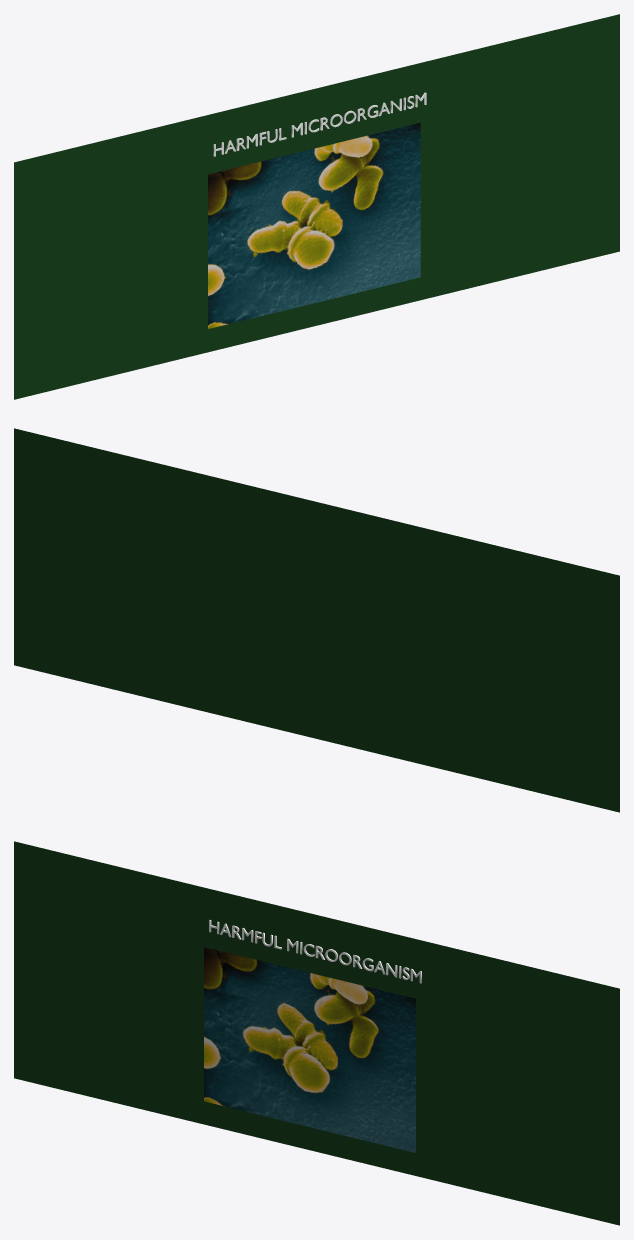
The model's file is fungi.gltf.
3 views of the same model, one above another, from view 1: azimuth 30°, elevation 25°; view 2: azimuth 150°, elevation 25°; view 3: azimuth 330°, elevation 25° (orthographic).
Visible parts, largest first — view 1: Plane.013, Plane, Text.008; view 2: Plane.013; view 3: Plane.013, Plane, Text.008.
Part boxes in pixels (bbox=[...]): Plane.013: bbox=[14, 14, 619, 399]; Plane: bbox=[208, 122, 420, 328]; Text.008: bbox=[213, 92, 426, 156]; Plane.013: bbox=[14, 428, 619, 812]; Plane.013: bbox=[14, 841, 619, 1225]; Plane: bbox=[204, 947, 415, 1152]; Text.008: bbox=[209, 920, 421, 983].
Bounding box in the file's own units: 15.94 × 5.96 × 0.1403.
3 materials, 1 textured.
